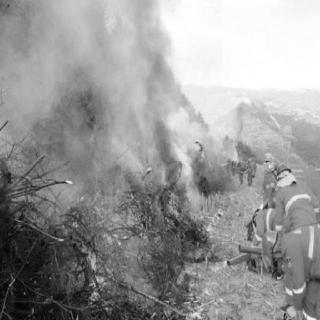Smoke: (72, 40, 136, 94)
